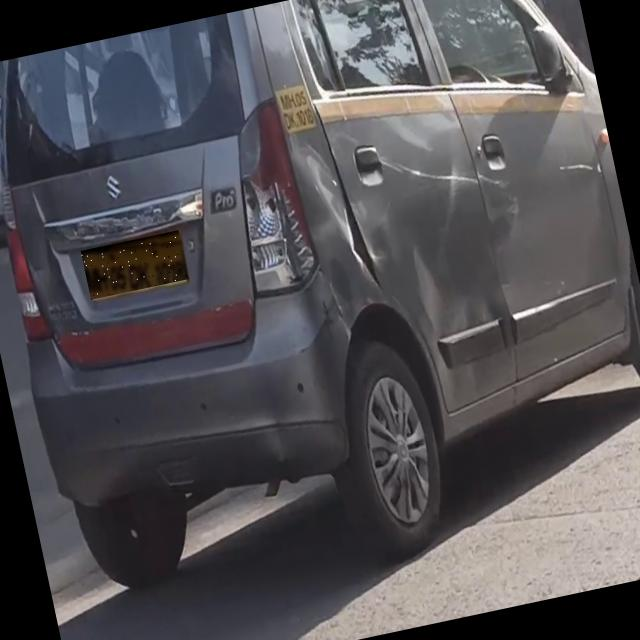Plate: (82, 231, 190, 301)
